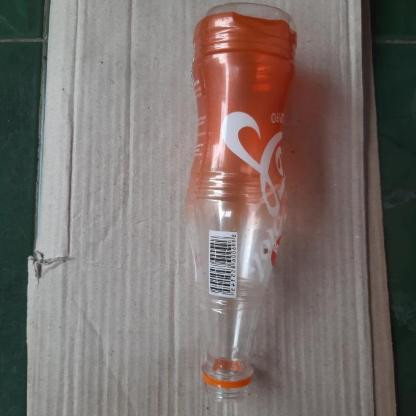Plastic Bottle: (184, 0, 298, 402)
